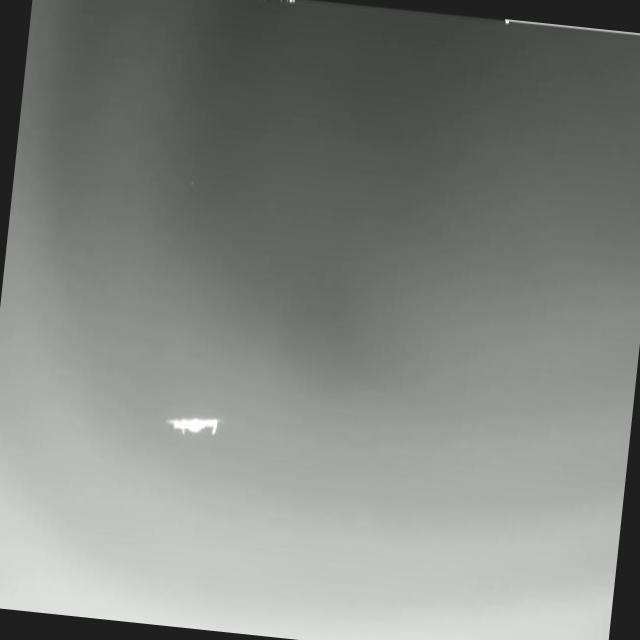DRONE: (155, 406, 225, 448)
